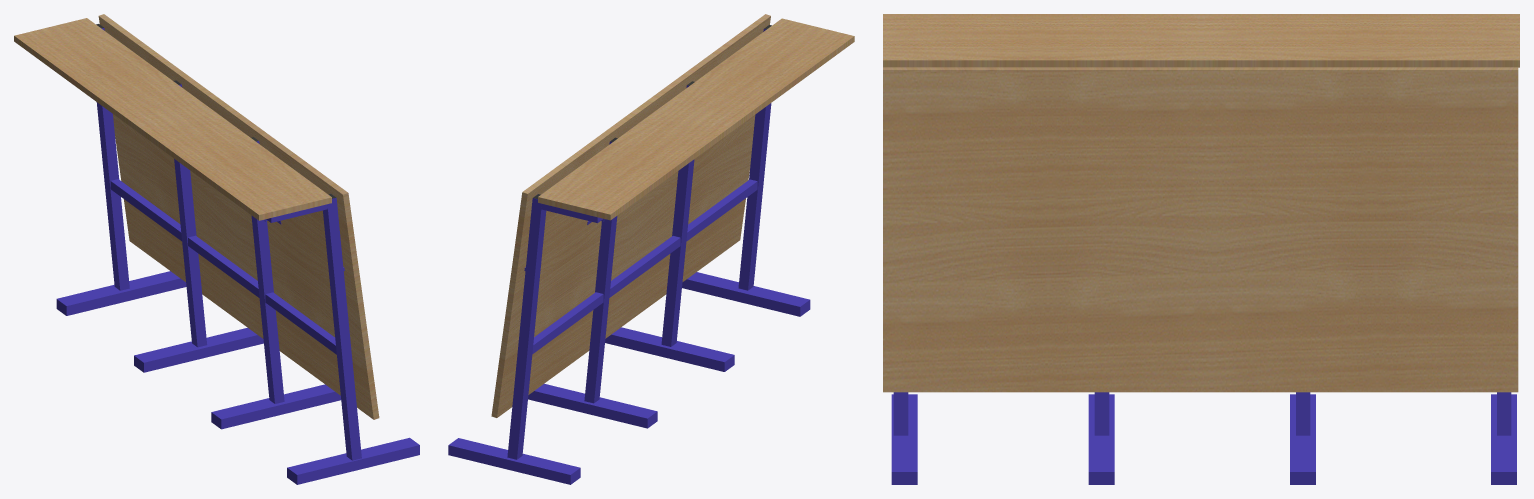
The model's file is lawka_3_przod.fbx.
The picture shows the model from 3 angles, left to right: view 1: azimuth 30°, elevation 25°; view 2: azimuth 150°, elevation 25°; view 3: azimuth 270°, elevation 25°; orthographic projection. The views are drawn at different scales.
Parts seen in each view (by area): view 1: przod5; view 2: przod5; view 3: przod5.
Boxes of the visible parts, x1=… form: przod5: x1=14, y1=14, x2=419, y2=484; przod5: x1=448, y1=14, x2=854, y2=484; przod5: x1=883, y1=14, x2=1519, y2=484.
Bounding box in the file's own units: 150 × 248 × 389.
